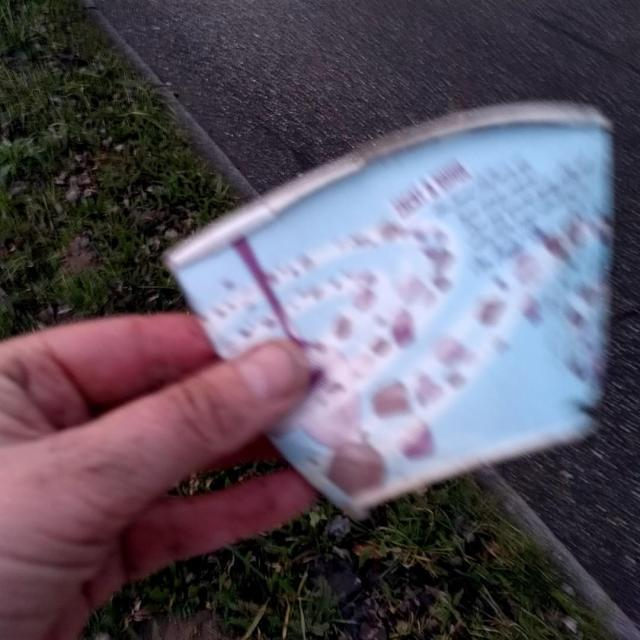Paper: (158, 98, 616, 524)
